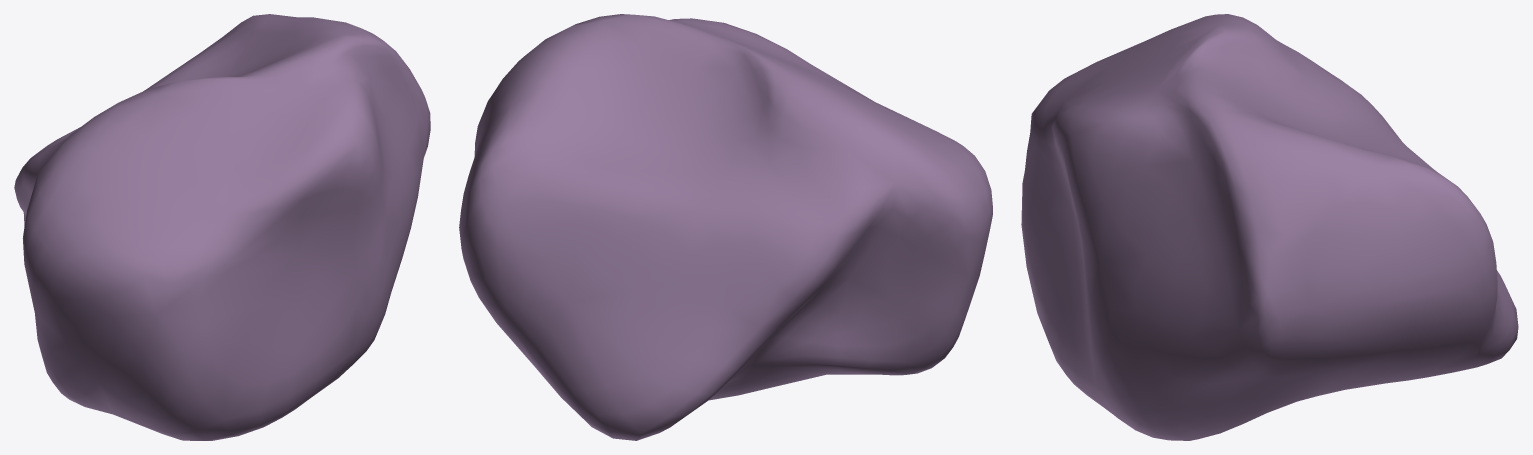
Rendered from spore_truffle.glb.
3 renders of one model, left to right at view 1: azimuth 30°, elevation 25°; view 2: azimuth 150°, elevation 25°; view 3: azimuth 270°, elevation 25°, orthographic. The views are drawn at different scales.
Visible parts, largest first — view 1: model; view 2: model; view 3: model.
Boxes of the visible parts, x1,y1,x2,y2 form: model: (14, 14, 430, 440); model: (459, 14, 992, 440); model: (1021, 14, 1518, 440).
Size of the model in its own units: 0.1479 by 0.1052 by 0.1284.
